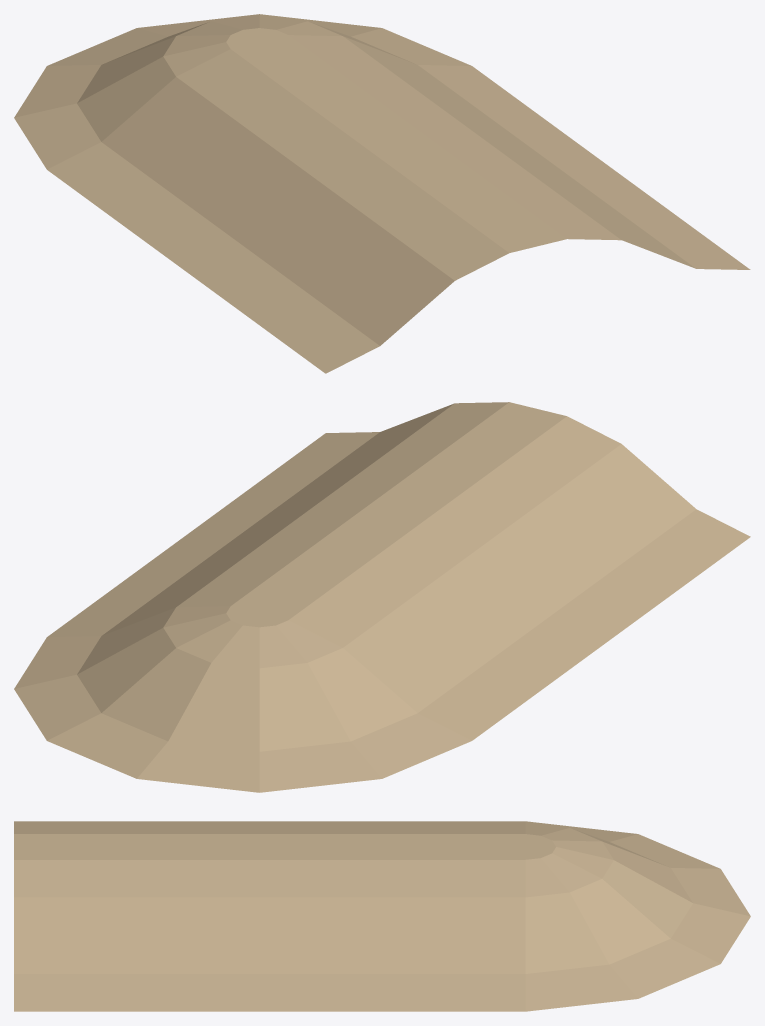
File: Prop_Track_Bump_Small_Row_End.obj
3 renders of one model, top to bottom at view 1: azimuth 30°, elevation 25°; view 2: azimuth 150°, elevation 25°; view 3: azimuth 270°, elevation 25°, orthographic. The views are drawn at different scales.
Parts seen in each view (by area): view 1: Dirt; view 2: Dirt; view 3: Dirt.
Part boxes in pixels (<box>): Dirt: <box>14,14,750,373</box>; Dirt: <box>14,402,750,792</box>; Dirt: <box>14,821,750,1011</box>.
Bounding box in the file's own units: 0.4403 × 0.075 × 0.7201.
